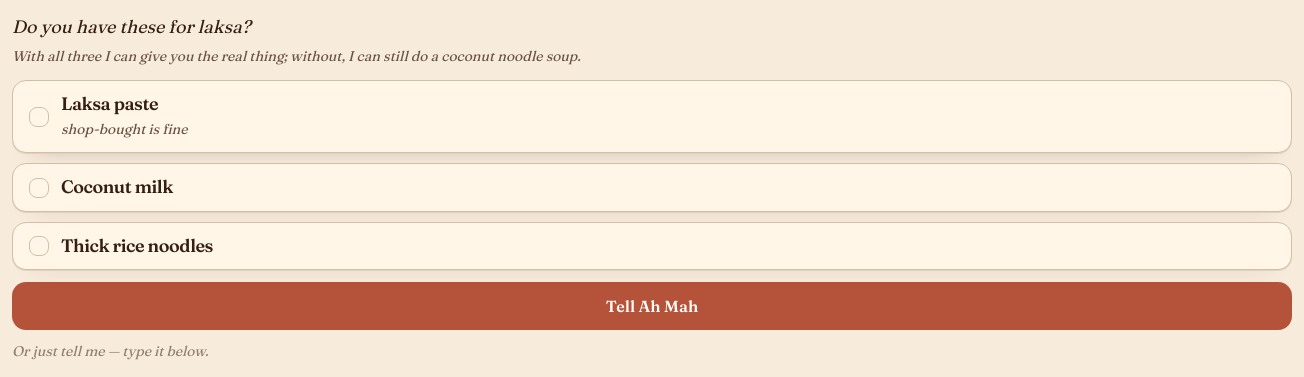
Test case: ChecklistBlock › unticks a staged row on a second tap
Click the text "Laksa paste": point(110, 104) left=61, top=92, right=158, bottom=115
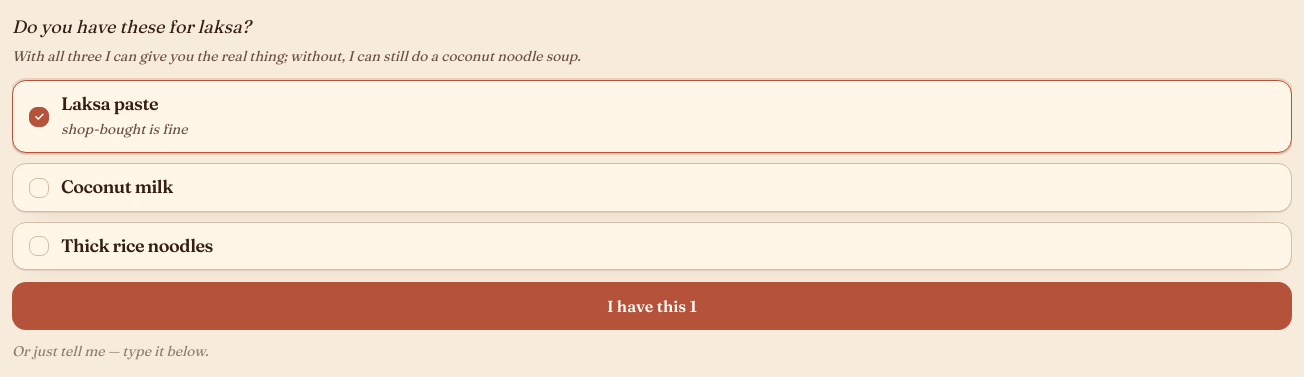
expect the button "I have this 1" is shown: met, box left=12, top=282, right=1292, bottom=330
Click the text "Laksa paste": point(110, 104) left=61, top=92, right=158, bottom=115
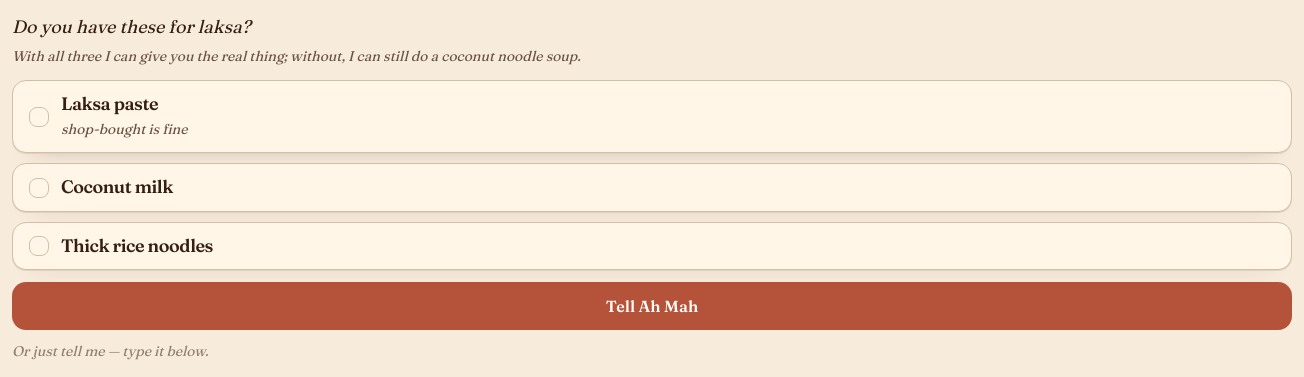
expect the button "Tell Ah Mah" is shown: met, box left=12, top=282, right=1292, bottom=330
